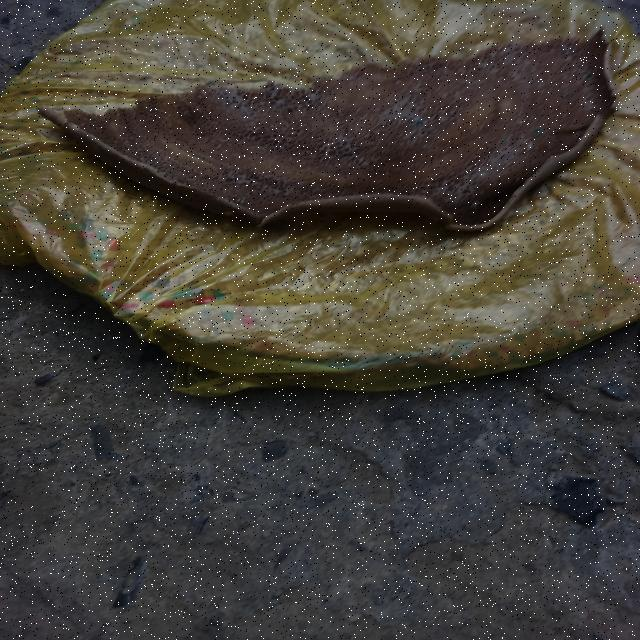injera_mold: (470, 200, 482, 209), (525, 142, 536, 150), (583, 72, 594, 80), (413, 120, 423, 126), (519, 136, 529, 142), (533, 129, 542, 135), (237, 198, 244, 203), (514, 178, 522, 182), (502, 139, 507, 144), (481, 172, 485, 176)
